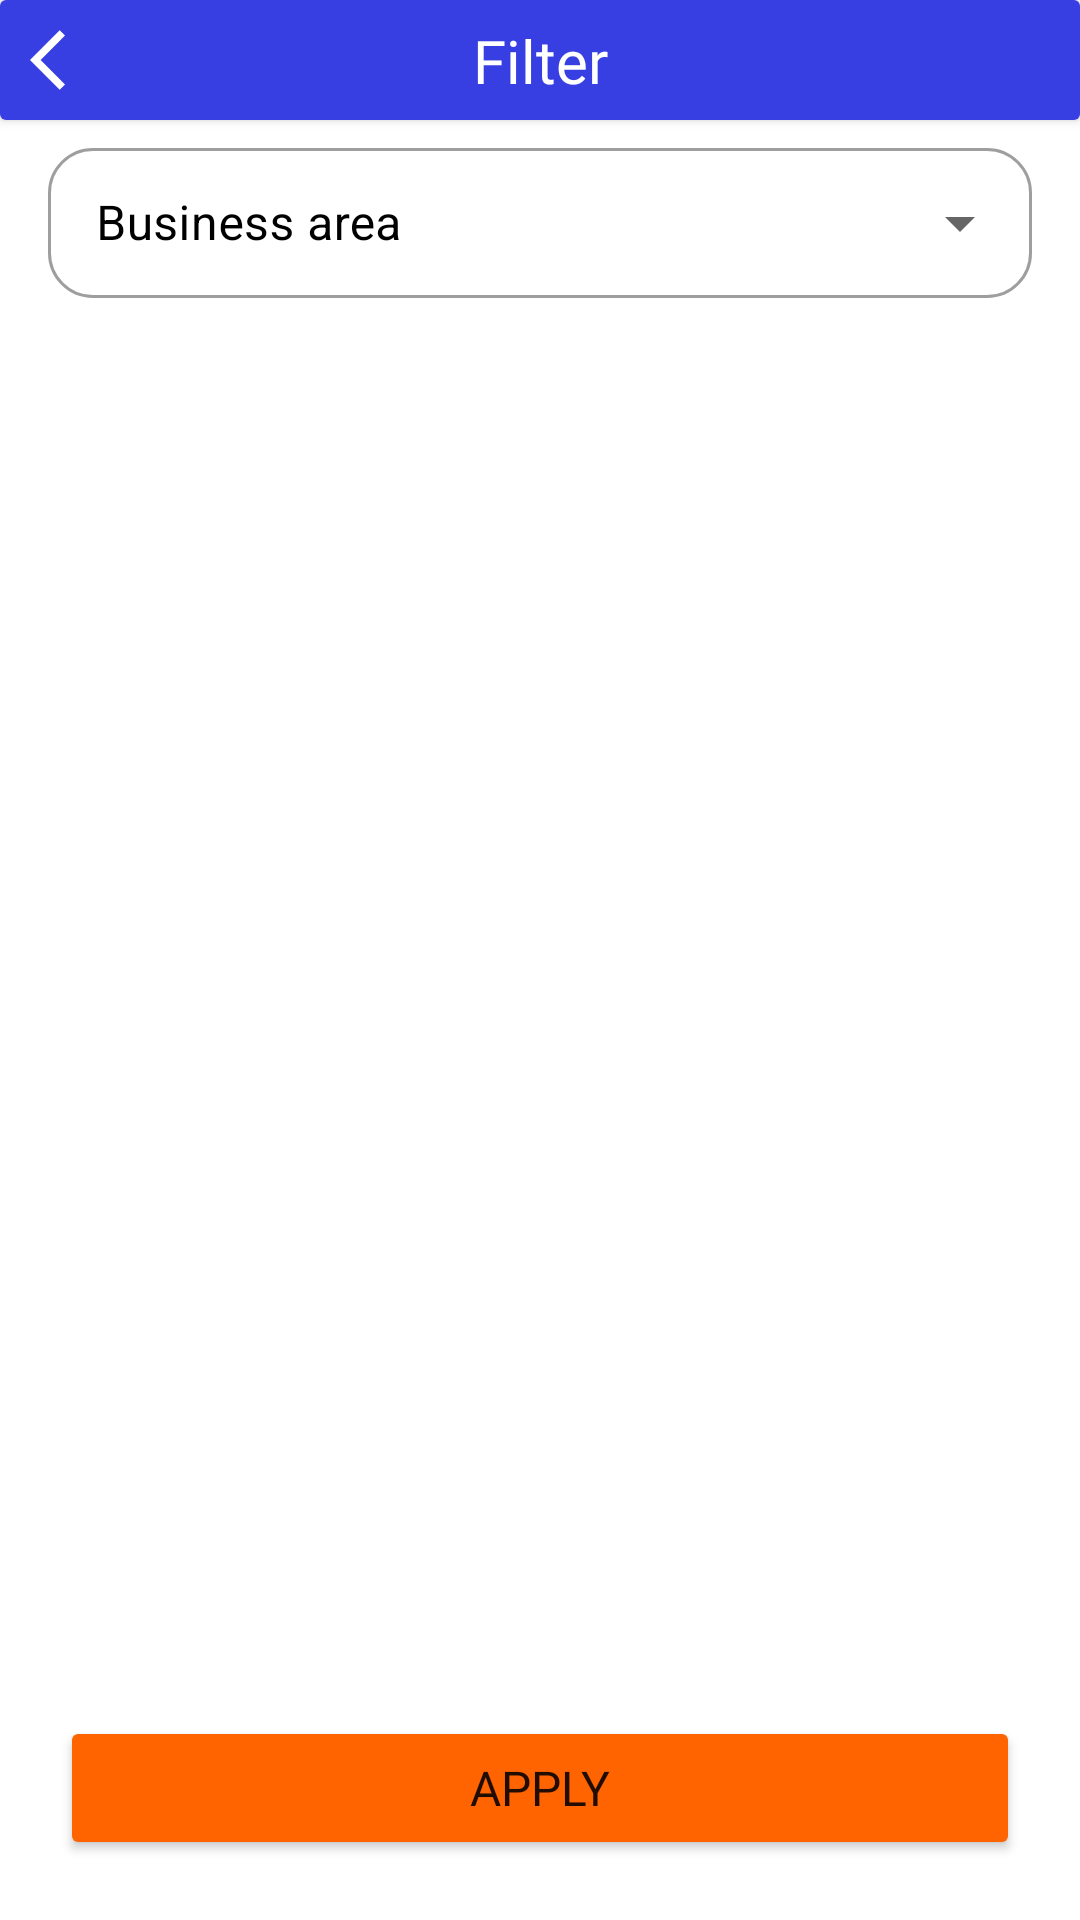

Icons on this 1080px x 1920px Android screen, each with the point to tap as [x,y]:
back: [47,60]
